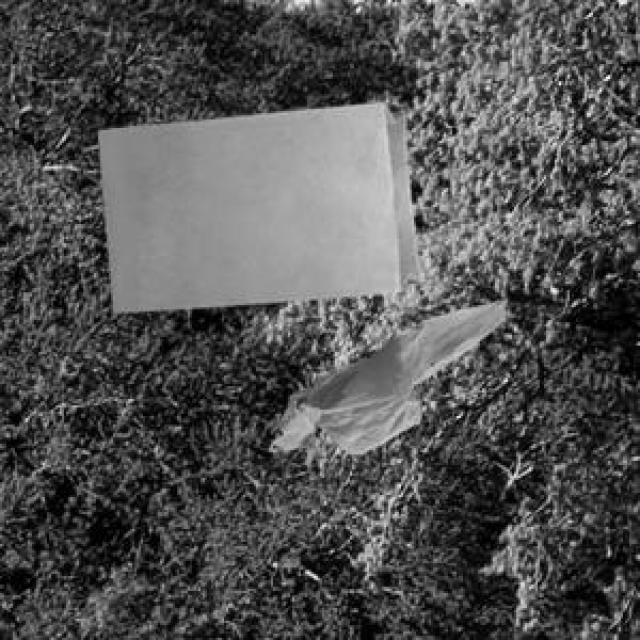paper: (94, 98, 418, 307)
